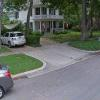Car: (1, 26, 29, 51)
